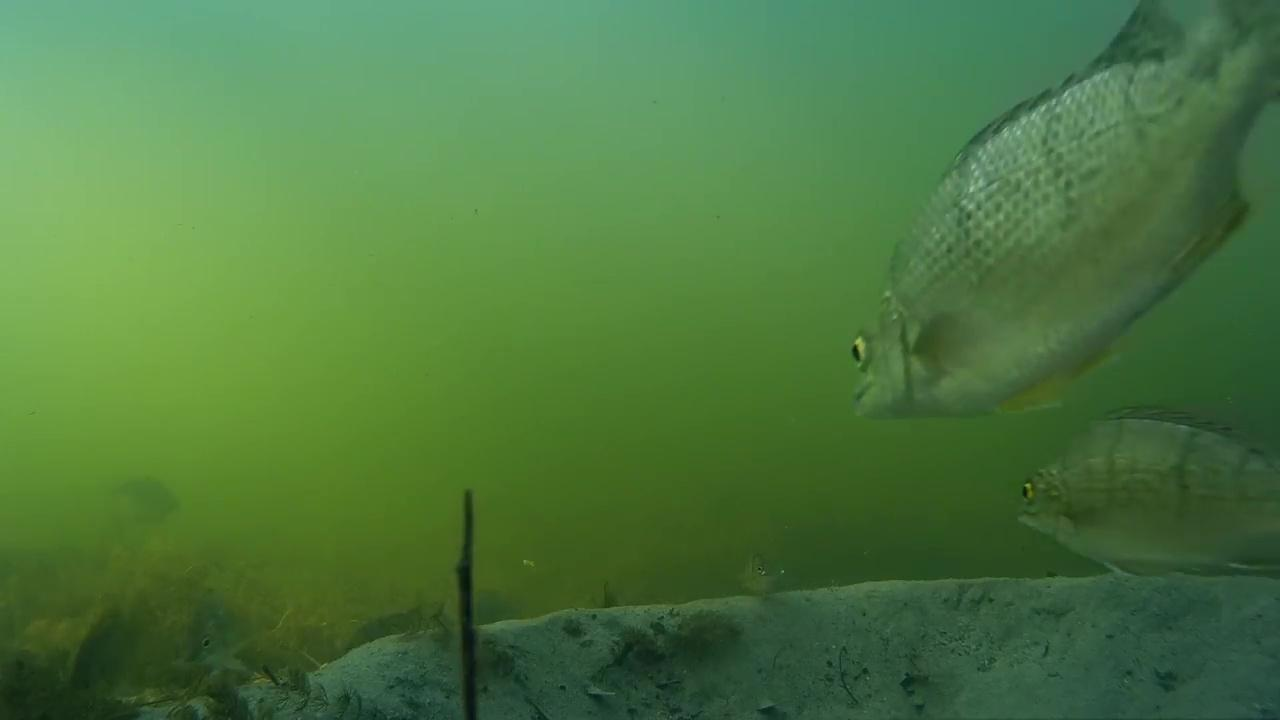Tilapia: (847, 0, 1280, 420), (1000, 398, 1280, 570)
